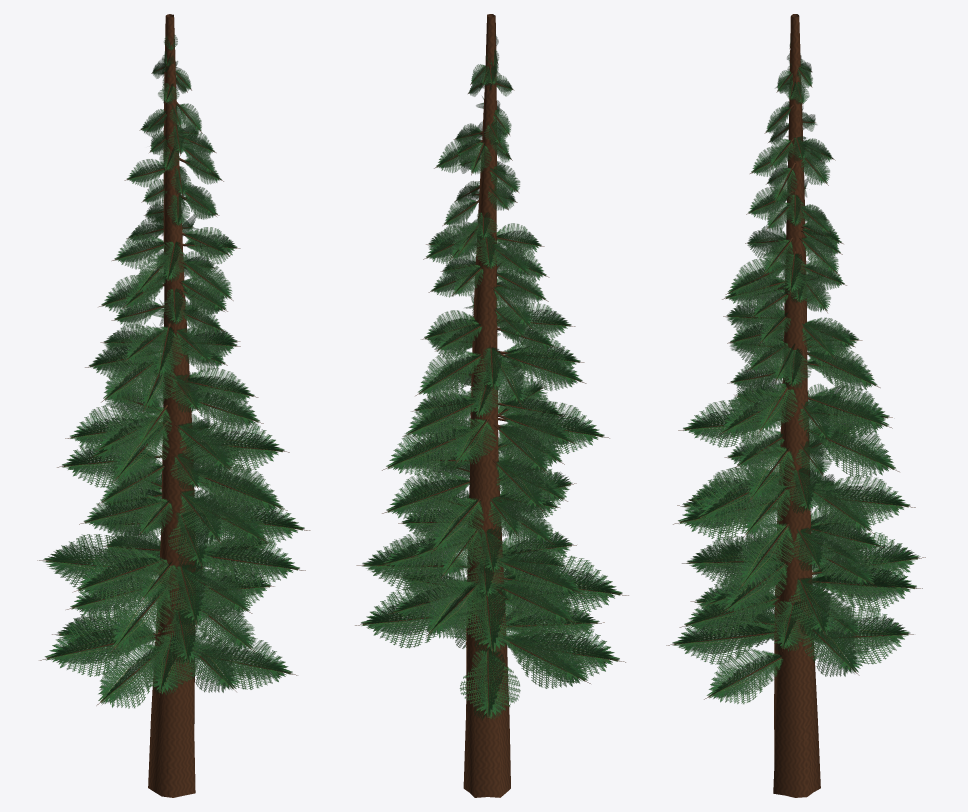
The model's file is pacific-redwood.glb.
3 renders of one model, left to right at view 1: azimuth 30°, elevation 25°; view 2: azimuth 150°, elevation 25°; view 3: azimuth 270°, elevation 25°, orthographic.
Visible parts, largest first — view 1: Redwood needle cards, Redwood ridged bark; view 2: Redwood needle cards, Redwood ridged bark; view 3: Redwood needle cards, Redwood ridged bark.
Part boxes in pixels (left/top/right/bottom): Redwood needle cards: left=43, top=34, right=304, bottom=708; Redwood ridged bark: left=37, top=14, right=310, bottom=797; Redwood needle cards: left=361, top=33, right=622, bottom=720; Redwood ridged bark: left=355, top=14, right=628, bottom=797; Redwood needle cards: left=672, top=38, right=920, bottom=704; Redwood ridged bark: left=666, top=14, right=925, bottom=797.
Bounding box in the file's own units: 8.6 × 25 × 8.62.
2 materials, 2 textured.
